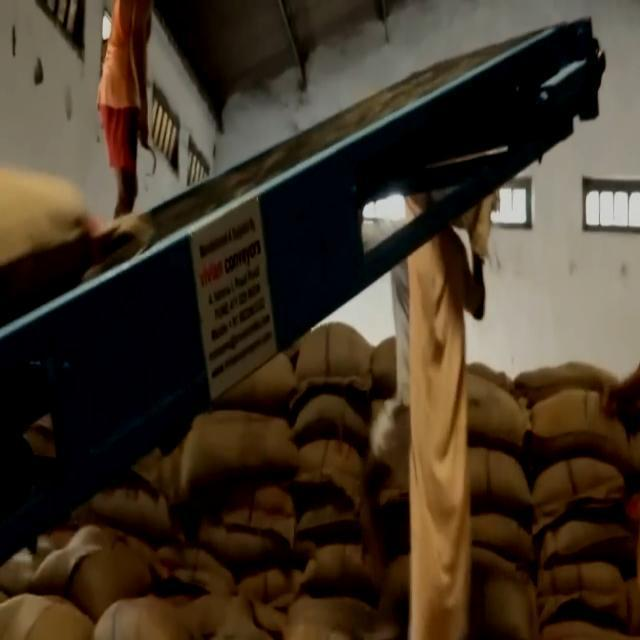gunny_bag: (0, 163, 142, 323)
